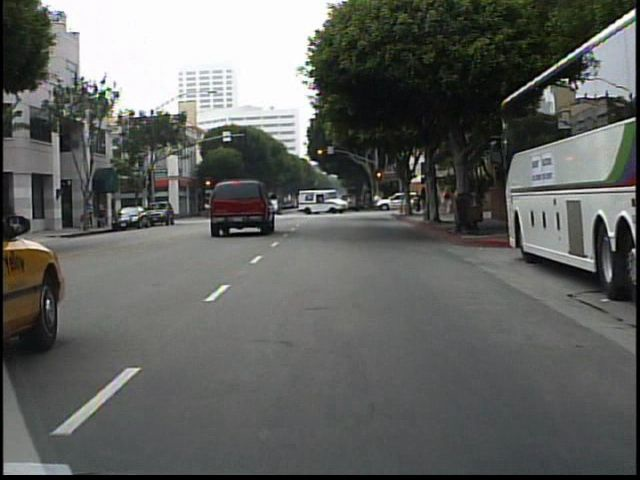person: (441, 185, 456, 218)
